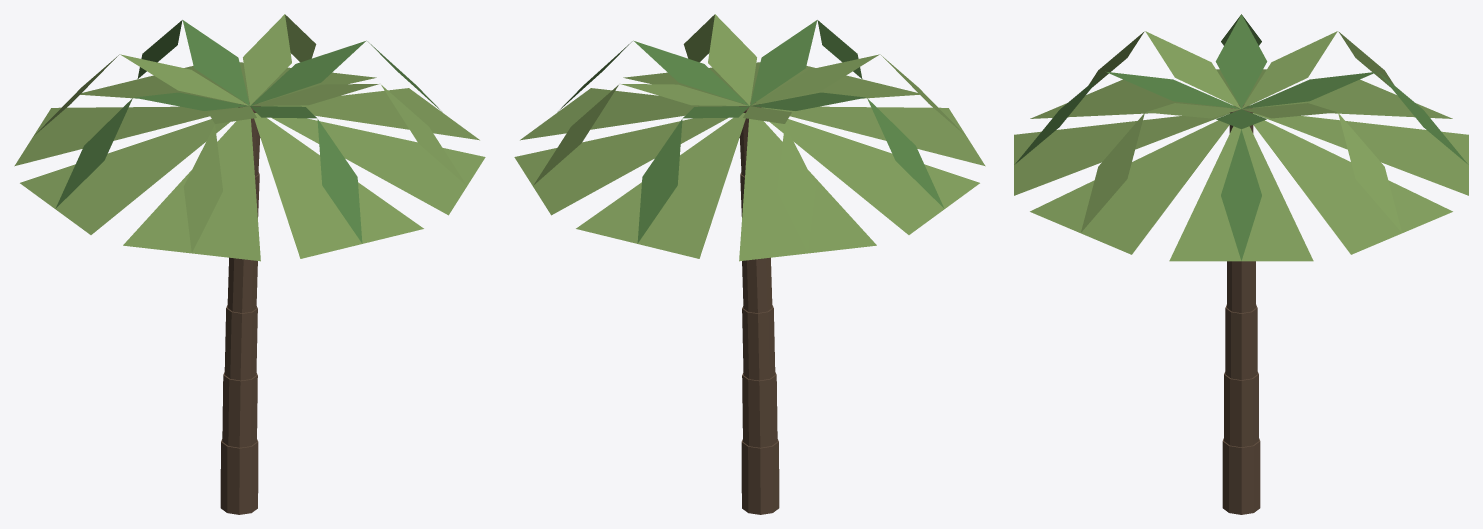
File: nature-fan-palm.lod0.glb
3 views of the same model, side by side, from view 1: azimuth 30°, elevation 25°; view 2: azimuth 150°, elevation 25°; view 3: azimuth 270°, elevation 25° (orthographic).
Parts seen in each view (by area): view 1: nature-fan-palm__body; view 2: nature-fan-palm__body; view 3: nature-fan-palm__body.
Boxes of the visible parts, x1,y1,x2,y2 form: nature-fan-palm__body: [14, 14, 485, 514]; nature-fan-palm__body: [514, 14, 985, 514]; nature-fan-palm__body: [1014, 14, 1468, 514].
Size of the model in its own units: 4.4 by 4.7 by 4.4.
